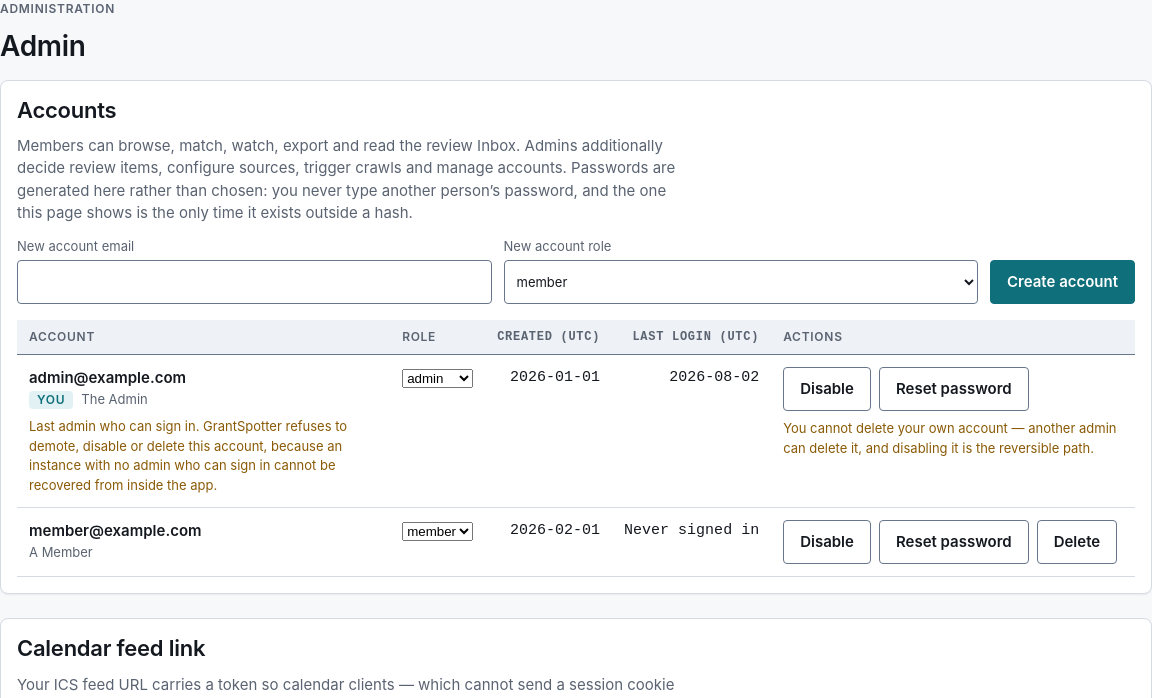
Admin console — users › surfaces a duplicate-email conflict instead of appearing to succeed
Type "new@example.com" into the field labelled "New account email".
click(254, 282); type("new@example.com")  # box [17,260,492,304]
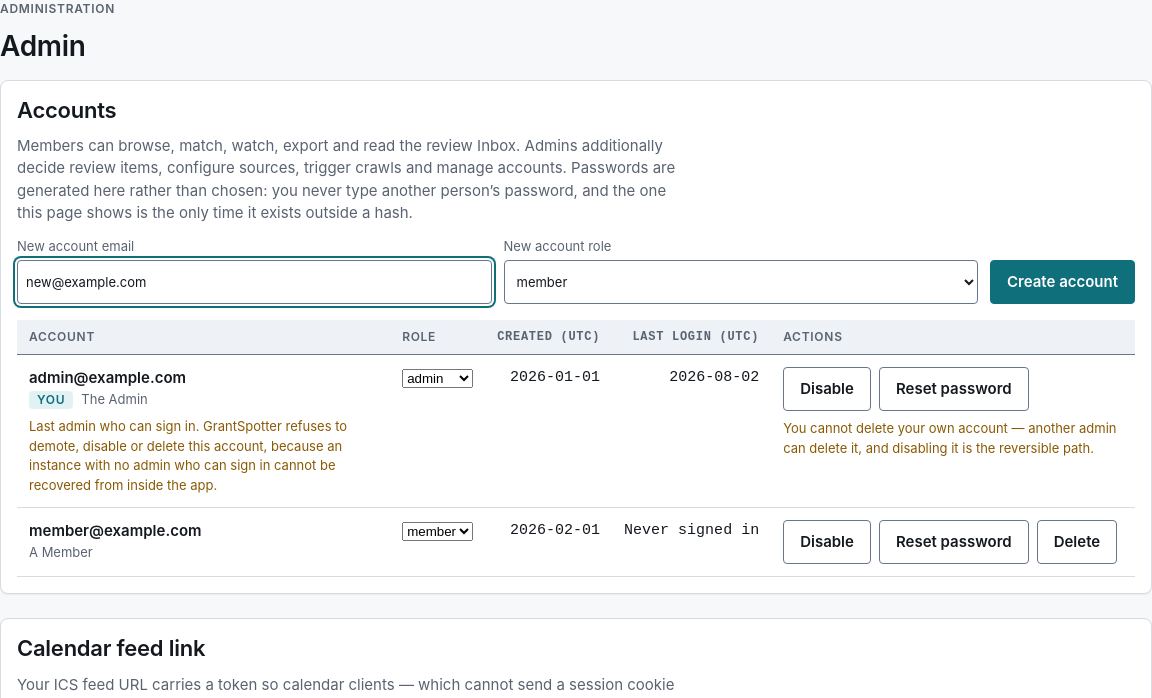
Click the button "Create account".
click(1062, 282)  # box [990,260,1135,304]
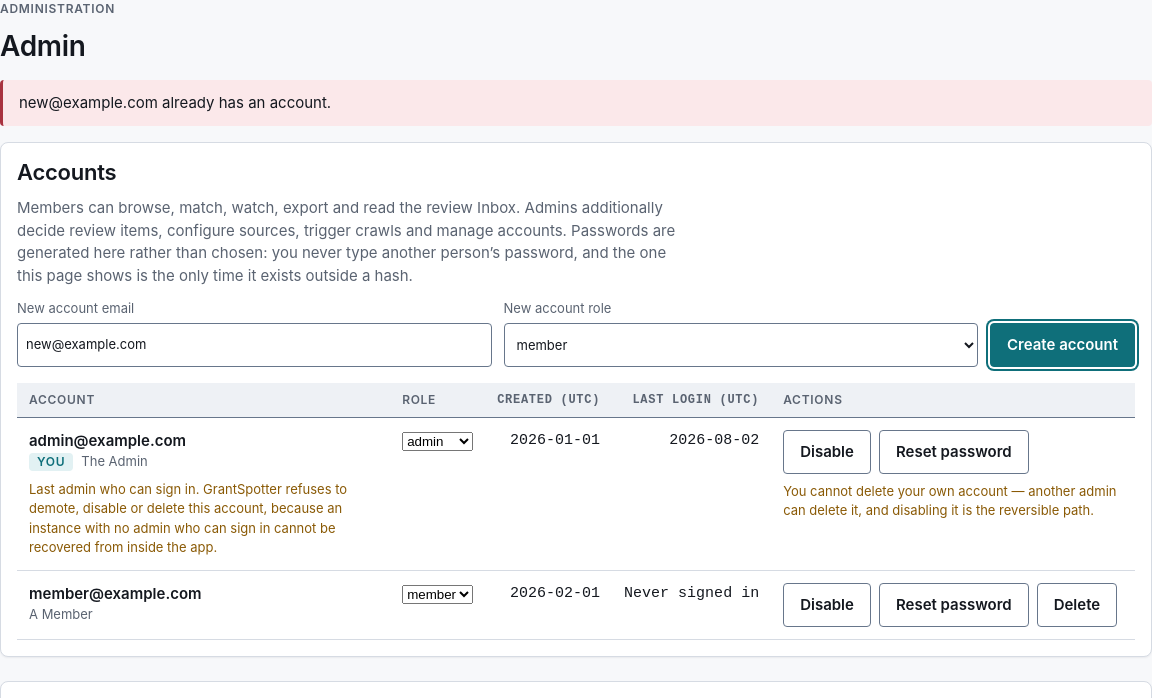
Check: the message shows "already has an account", box [19,93,331,112]
